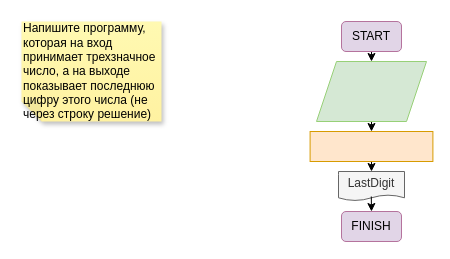
This 450x259 diagram has some shape labels left out. Each missing label, with the centre of its shape:
LastDigit=number%10: the point at 371,146
введите трехзначное число number: the point at 371,91
